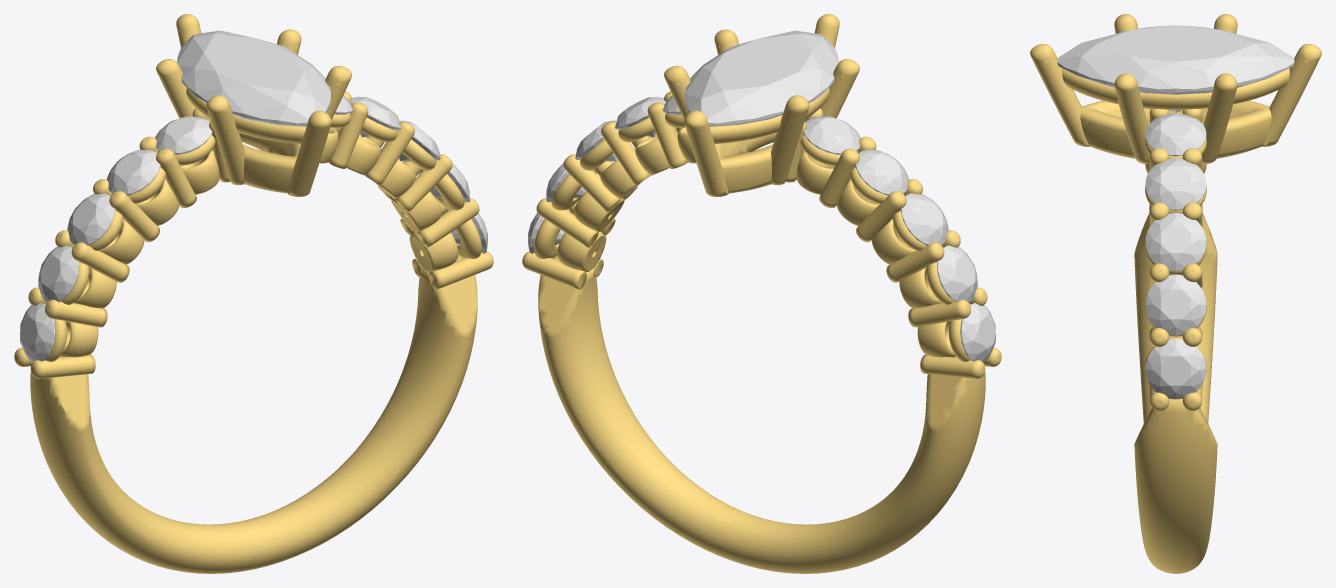
File: diamond-marquise-yellowgold-6prong-taperedband-11stone.glb
3 views of the same model, side by side, from view 1: azimuth 30°, elevation 25°; view 2: azimuth 150°, elevation 25°; view 3: azimuth 270°, elevation 25° (orthographic).
Parts seen in each view (by area): view 1: metal.001, stone.001, dia.014, dia.013, dia.015, dia.001, dia.016, dia.020; view 2: metal.001, stone.001, dia.014, dia.013, dia.015, dia.001, dia.016, dia.020; view 3: metal.001, stone.001, dia.018, dia.017, dia.019, dia.020, dia.021.
Boxes of the visible parts, <box> form: metal.001: <box>14,14,493,573</box>; stone.001: <box>177,30,331,126</box>; dia.014: <box>67,193,115,245</box>; dia.013: <box>38,245,78,302</box>; dia.015: <box>106,150,160,195</box>; dia.001: <box>20,303,55,362</box>; dia.016: <box>155,116,212,154</box>; dia.020: <box>349,96,400,137</box>; metal.001: <box>522,14,1001,573</box>; stone.001: <box>684,30,838,126</box>; dia.014: <box>900,193,948,245</box>; dia.013: <box>937,245,977,302</box>; dia.015: <box>855,150,908,195</box>; dia.001: <box>960,303,995,362</box>; dia.016: <box>803,116,860,154</box>; dia.020: <box>615,96,666,137</box>; metal.001: <box>1030,14,1321,573</box>; stone.001: <box>1057,25,1294,112</box>; dia.018: <box>1145,274,1206,335</box>; dia.017: <box>1145,339,1206,399</box>; dia.019: <box>1145,213,1206,271</box>; dia.020: <box>1145,158,1206,210</box>; dia.021: <box>1145,113,1206,156</box>.
Size of the model in its own units: 21.88 by 22.93 by 11.96.
